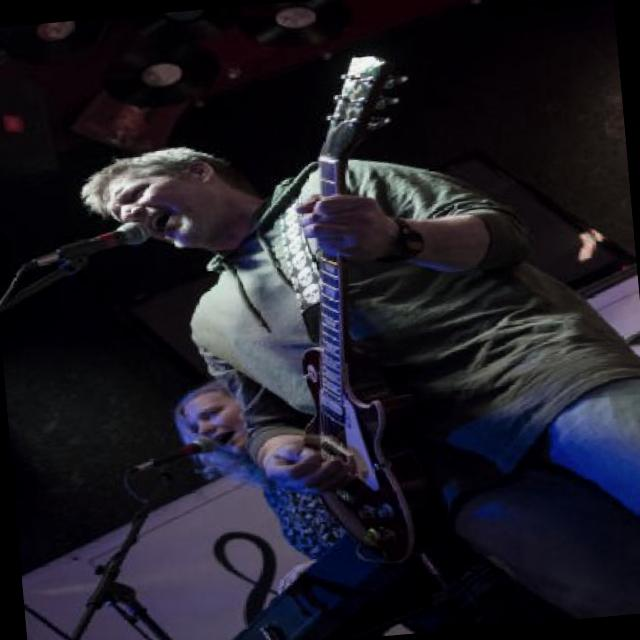Person: (74, 107, 640, 640)
